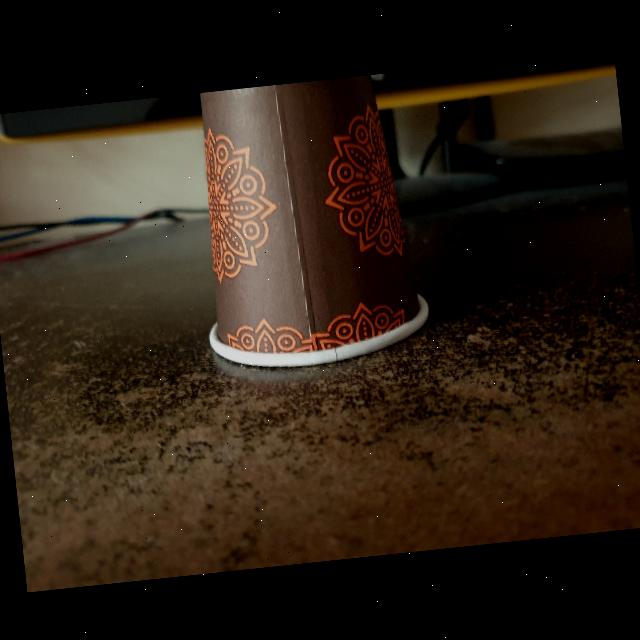trash: (170, 70, 440, 382)
